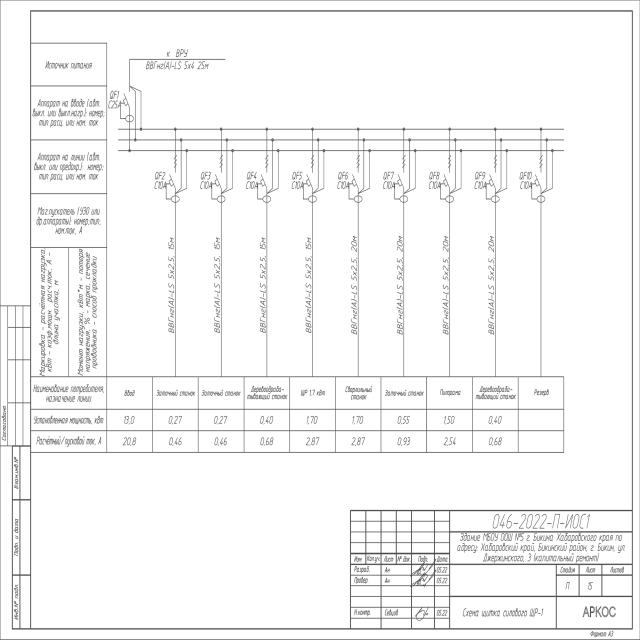-: (519, 179, 534, 192), (244, 179, 259, 192), (427, 180, 441, 193), (336, 180, 351, 192), (473, 180, 488, 192), (107, 99, 122, 111), (290, 180, 305, 192), (382, 180, 396, 192), (153, 180, 167, 191), (199, 180, 213, 191)
QFD: (484, 154, 502, 204), (300, 154, 318, 203), (165, 154, 182, 204), (210, 154, 227, 204), (255, 154, 272, 204), (439, 154, 456, 204), (530, 154, 547, 204), (347, 153, 364, 202), (394, 154, 411, 203), (119, 90, 136, 124)
